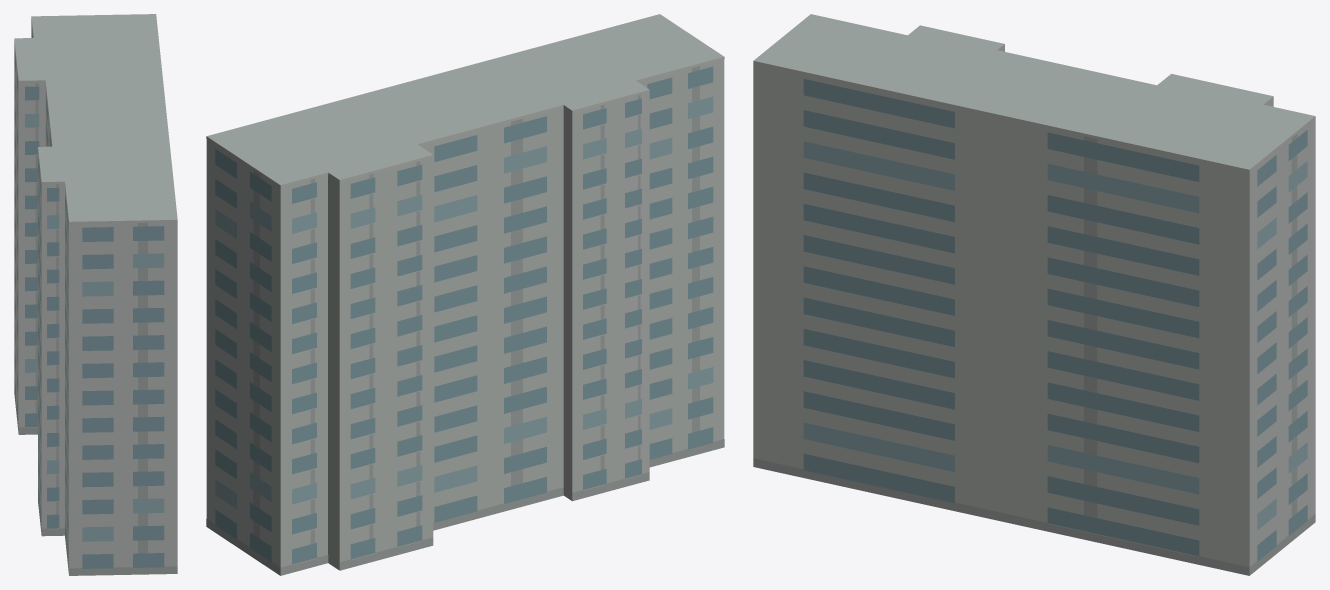
The model's file is residential-1984bfef-2fcb-4621-aadf-d67dc2fcfc49.glb.
3 views of the same model, side by side, from view 1: azimuth 30°, elevation 25°; view 2: azimuth 150°, elevation 25°; view 3: azimuth 270°, elevation 25° (orthographic). The views are drawn at different scales.
Visible parts, largest first — view 1: residential-1984bfef-2fcb-4621-aadf-d67dc2fcfc49.tmp; view 2: residential-1984bfef-2fcb-4621-aadf-d67dc2fcfc49.tmp; view 3: residential-1984bfef-2fcb-4621-aadf-d67dc2fcfc49.tmp.
Part boxes in pixels (x1,y1,x2,y2): residential-1984bfef-2fcb-4621-aadf-d67dc2fcfc49.tmp: [14, 14, 177, 575]; residential-1984bfef-2fcb-4621-aadf-d67dc2fcfc49.tmp: [206, 14, 724, 575]; residential-1984bfef-2fcb-4621-aadf-d67dc2fcfc49.tmp: [753, 14, 1315, 575].
Size of the model in its own units: 29.62 by 36 by 45.17.
